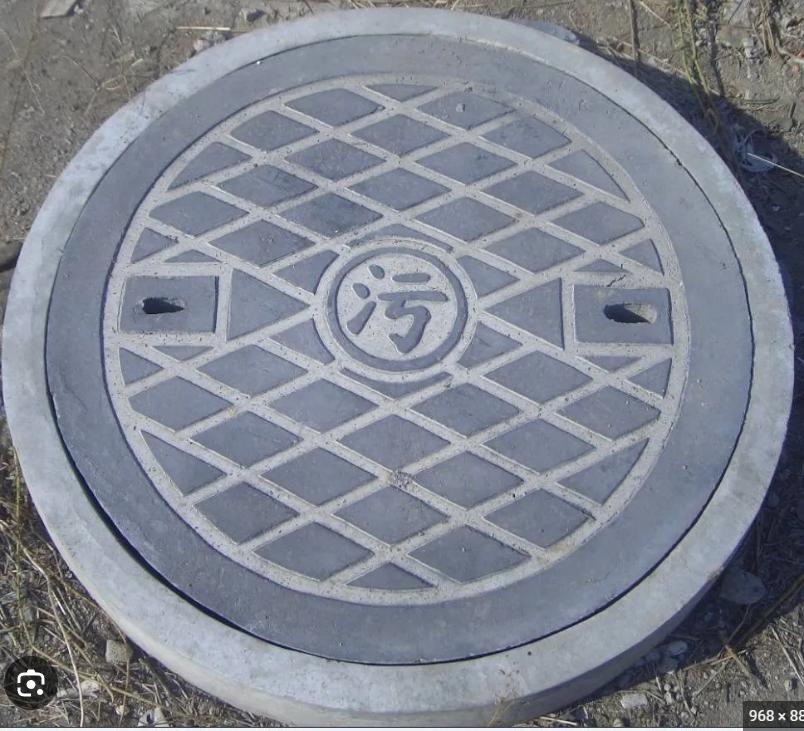wellcover: (5, 10, 804, 695)
